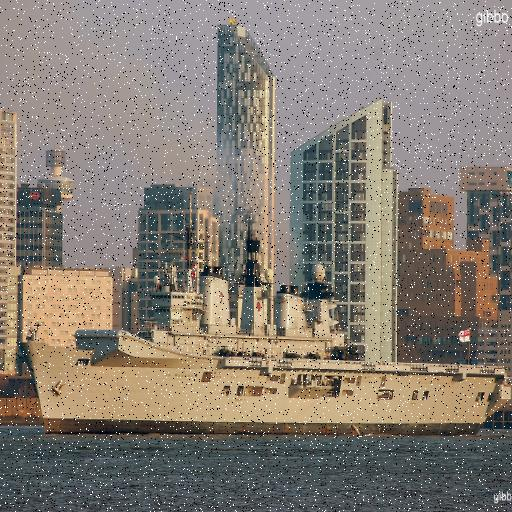Portanaves: (16, 215, 512, 442)
